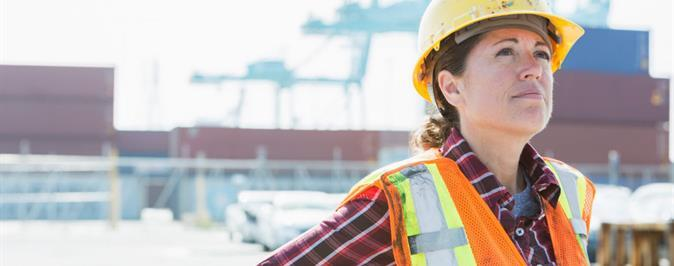helmet: (413, 1, 586, 101)
